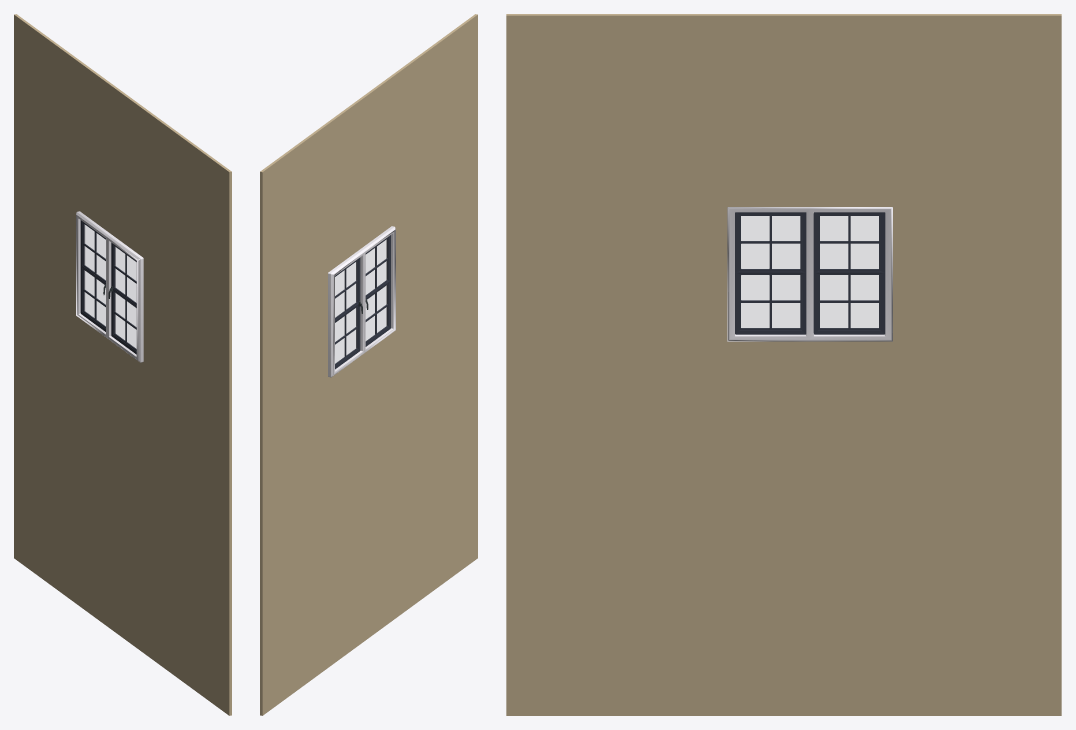
Rendered from wallE.fbx.
3 views of the same model, side by side, from view 1: azimuth 30°, elevation 25°; view 2: azimuth 150°, elevation 25°; view 3: azimuth 270°, elevation 25° (orthographic). The views are drawn at different scales.
Visible parts, largest first — view 1: wallE, outerframeE, glassE, innerframeE; view 2: wallE, glassE, outerframeE, innerframeE; view 3: wallE, glassE, innerframeE, outerframeE.
Boxes of the visible parts, x1,y1,x2,y2 form: wallE: [14, 14, 231, 715]; outerframeE: [76, 211, 143, 362]; glassE: [84, 224, 135, 347]; innerframeE: [80, 220, 136, 354]; wallE: [260, 14, 477, 715]; glassE: [335, 240, 386, 363]; outerframeE: [328, 226, 395, 377]; innerframeE: [335, 235, 390, 369]; wallE: [506, 14, 1061, 715]; glassE: [741, 216, 878, 327]; innerframeE: [735, 212, 885, 334]; outerframeE: [727, 207, 892, 341].
Size of the model in its own units: 8.46 by 517 by 371.
